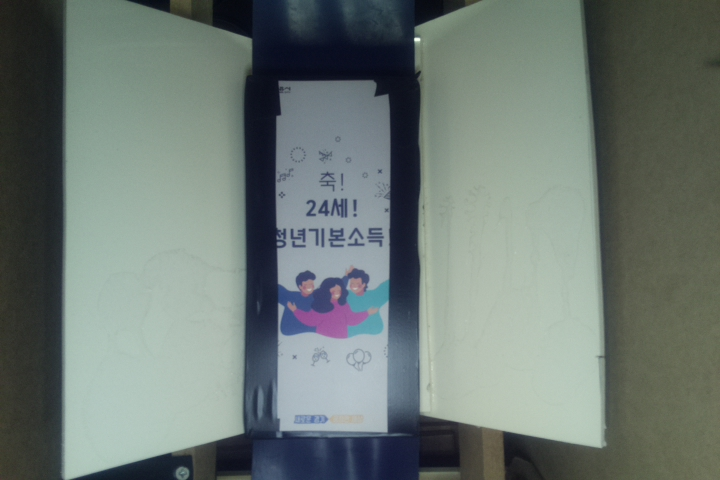book: (244, 69, 423, 442)
